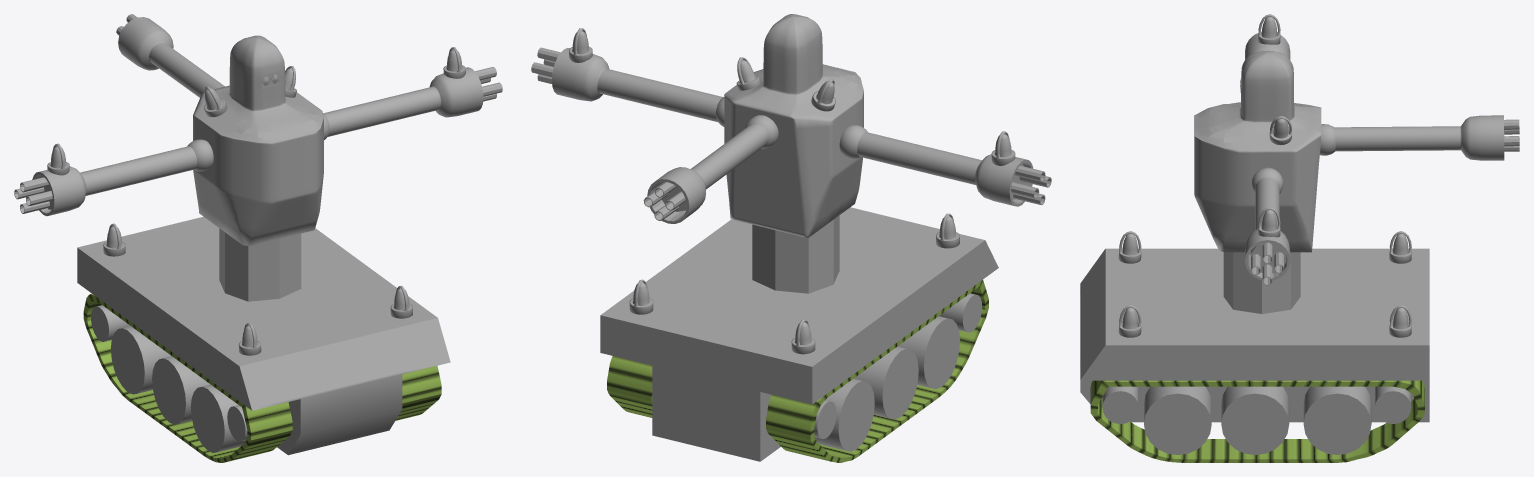
The model's file is ShamrockBotRigFinal.fbx.
The picture shows the model from 3 angles, left to right: view 1: azimuth 30°, elevation 25°; view 2: azimuth 150°, elevation 25°; view 3: azimuth 270°, elevation 25°; orthographic projection. The views are drawn at different scales.
Parts seen in each view (by area): view 1: Body1, Torso1, polySurface10, R_Arm1, R_Arm, R_Arm2, polySurface6, L_Minigun1, R_Shoulder, TeslaCoil3, L_Minigun, TeslaCoil5 (+4 smaller); view 2: Body1, Torso1, polySurface10, R_Arm1, R_Arm, R_Arm2, polySurface6, L_Minigun1, L_Minigun2, R_Shoulder, L_Minigun, TeslaCoil4 (+6 smaller); view 3: Body1, polySurface6, Torso1, R_Arm2, R_Arm1, L_Minigun, TeslaCoil3, TeslaCoil6, TeslaCoil4, TeslaCoil5, TeslaCoil1, R_Arm (+4 smaller).
Boxes of the visible parts, <box> form: Body1: <box>77,216,450,455</box>; Torso1: <box>193,35,323,246</box>; polySurface10: <box>83,294,292,462</box>; R_Arm1: <box>323,67,483,136</box>; R_Arm: <box>32,146,197,216</box>; R_Arm2: <box>118,17,224,97</box>; polySurface6: <box>395,365,441,420</box>; L_Minigun1: <box>14,176,52,213</box>; R_Shoulder: <box>187,139,213,171</box>; TeslaCoil3: <box>390,285,412,318</box>; L_Minigun: <box>475,67,502,101</box>; TeslaCoil5: <box>103,223,125,256</box>; Body1: <box>600,207,998,461</box>; Torso1: <box>724,14,863,237</box>; polySurface10: <box>766,280,988,462</box>; R_Arm1: <box>552,48,723,121</box>; R_Arm: <box>857,132,1033,206</box>; R_Arm2: <box>647,123,768,223</box>; polySurface6: <box>607,356,652,417</box>; L_Minigun1: <box>1011,164,1051,205</box>; L_Minigun2: <box>643,182,686,220</box>; R_Shoulder: <box>839,125,867,158</box>; L_Minigun: <box>531,47,560,83</box>; TeslaCoil4: <box>629,279,653,314</box>; Body1: <box>1080,248,1429,422</box>; polySurface6: <box>1090,380,1424,462</box>; Torso1: <box>1194,51,1321,252</box>; R_Arm2: <box>1334,115,1504,160</box>; R_Arm1: <box>1245,177,1290,280</box>; L_Minigun: <box>1251,242,1286,285</box>; TeslaCoil3: <box>1118,305,1141,337</box>; TeslaCoil6: <box>1118,231,1141,263</box>; TeslaCoil4: <box>1389,305,1411,337</box>; TeslaCoil5: <box>1389,231,1411,263</box>; TeslaCoil1: <box>1258,14,1280,44</box>; R_Arm: <box>1245,33,1290,59</box>.
Size of the model in its own units: 8.04 by 5.94 by 6.5.
